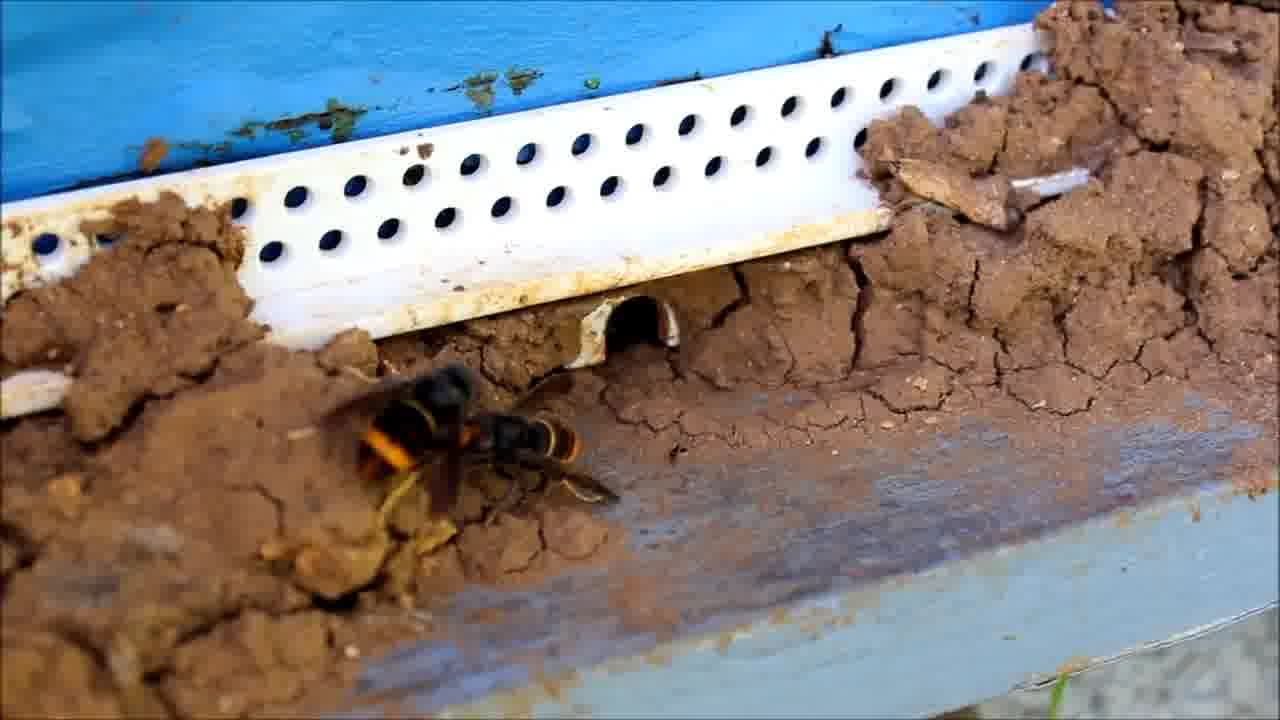hornet: (352, 363, 480, 497), (471, 368, 597, 501)
